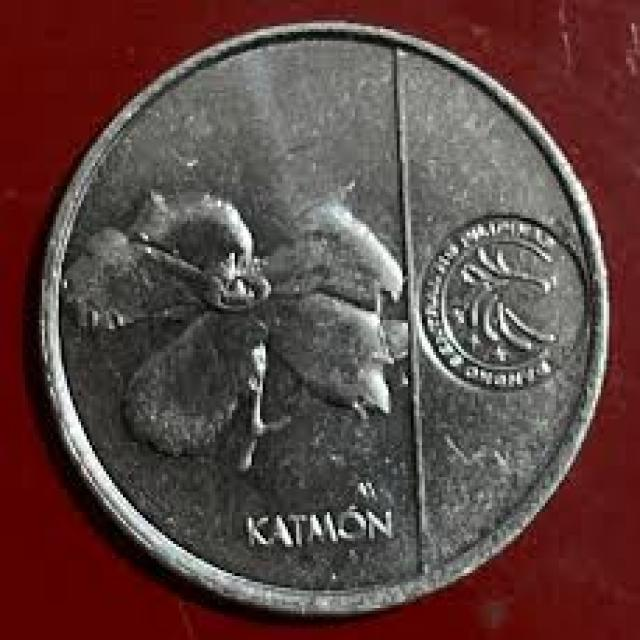25 cents: (33, 13, 619, 629)
